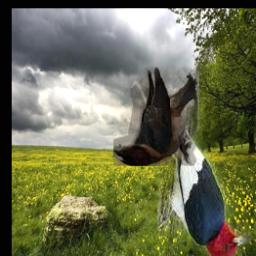Swallow: (113, 68, 199, 167)
Woodpecker: (157, 102, 251, 256)
